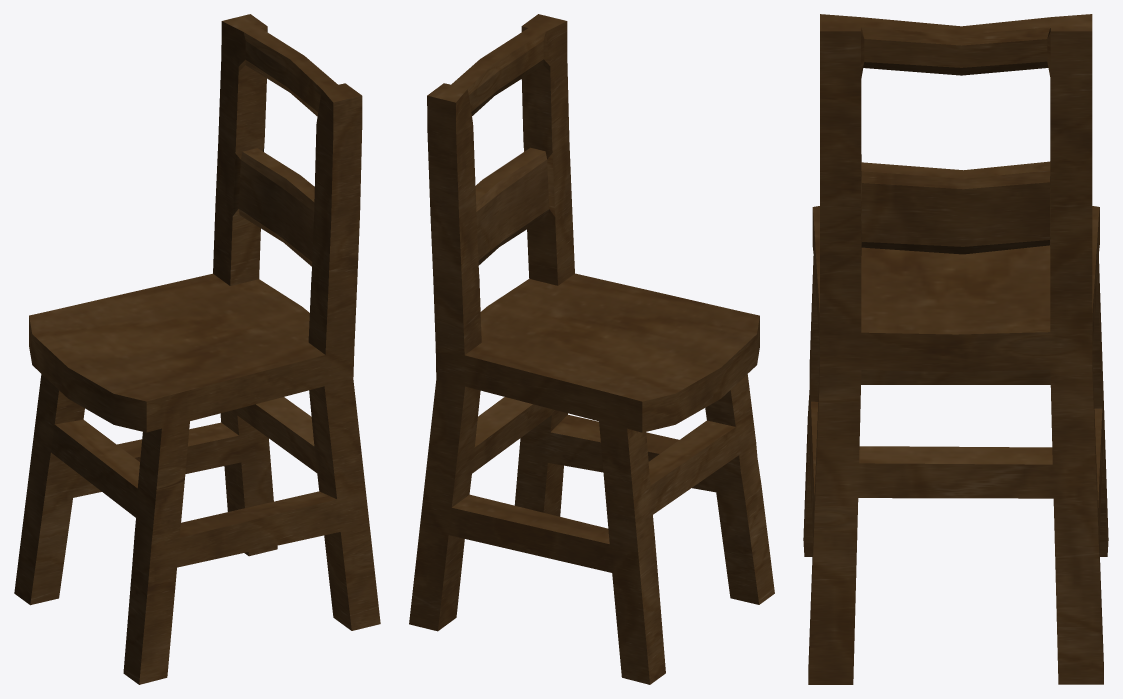
Rendered from chairwood.fbx.
3 views of the same model, side by side, from view 1: azimuth 30°, elevation 25°; view 2: azimuth 150°, elevation 25°; view 3: azimuth 270°, elevation 25° (orthographic). The views are drawn at different scales.
Visible parts, largest first — view 1: pCube1; view 2: pCube1; view 3: pCube1.
Boxes of the visible parts, x1=… form: pCube1: x1=14, y1=14, x2=380, y2=684; pCube1: x1=409, y1=14, x2=774, y2=684; pCube1: x1=803, y1=14, x2=1108, y2=684.
Bounding box in the file's own units: 84.27 × 72.3 × 169.
Materials: 1 (1 with a texture image).
